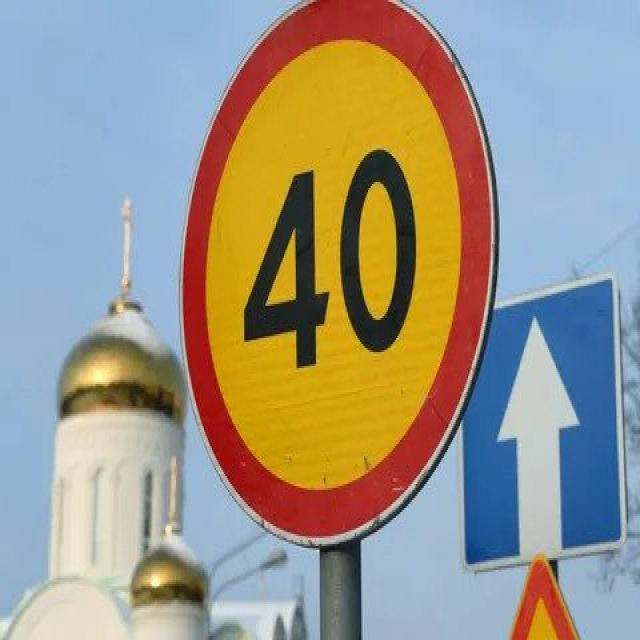speed limit 40: (174, 0, 499, 551)
